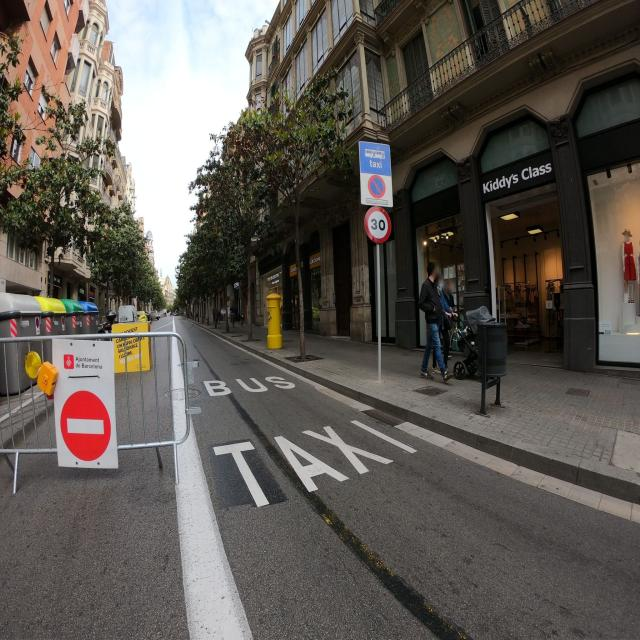forb_stopping: (367, 173, 385, 199)
